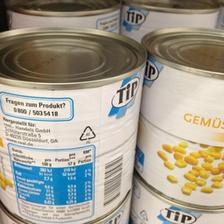Mais: (0, 26, 148, 222), (133, 25, 223, 205)
